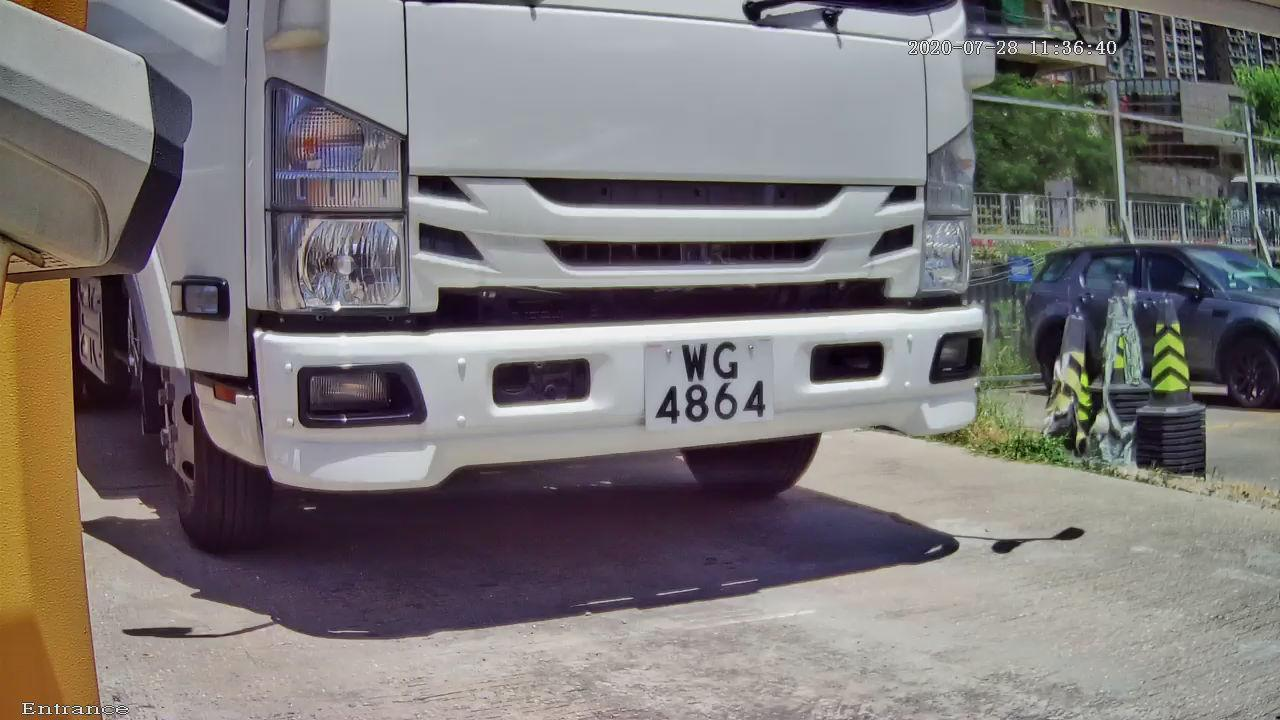vehicle_m: (2, 1, 1093, 611)
